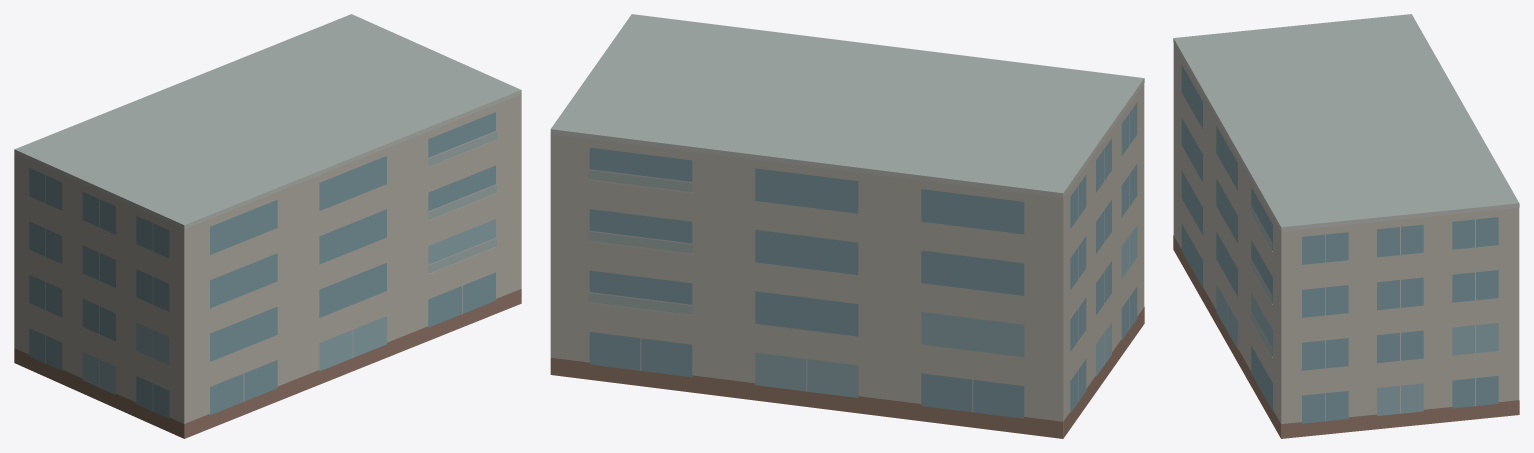
File: survey-upis-32832263.glb
The picture shows the model from 3 angles, left to right: view 1: azimuth 30°, elevation 25°; view 2: azimuth 150°, elevation 25°; view 3: azimuth 270°, elevation 25°; orthographic projection. The views are drawn at different scales.
Parts seen in each view (by area): view 1: survey-upis-32832263.tmp; view 2: survey-upis-32832263.tmp; view 3: survey-upis-32832263.tmp.
Part boxes in pixels (box(x1,y1,x2,y2)): survey-upis-32832263.tmp: box(14, 14, 521, 438); survey-upis-32832263.tmp: box(550, 14, 1144, 438); survey-upis-32832263.tmp: box(1173, 14, 1519, 438).
Bounding box in the file's own units: 26.37 × 12.2 × 18.09.
